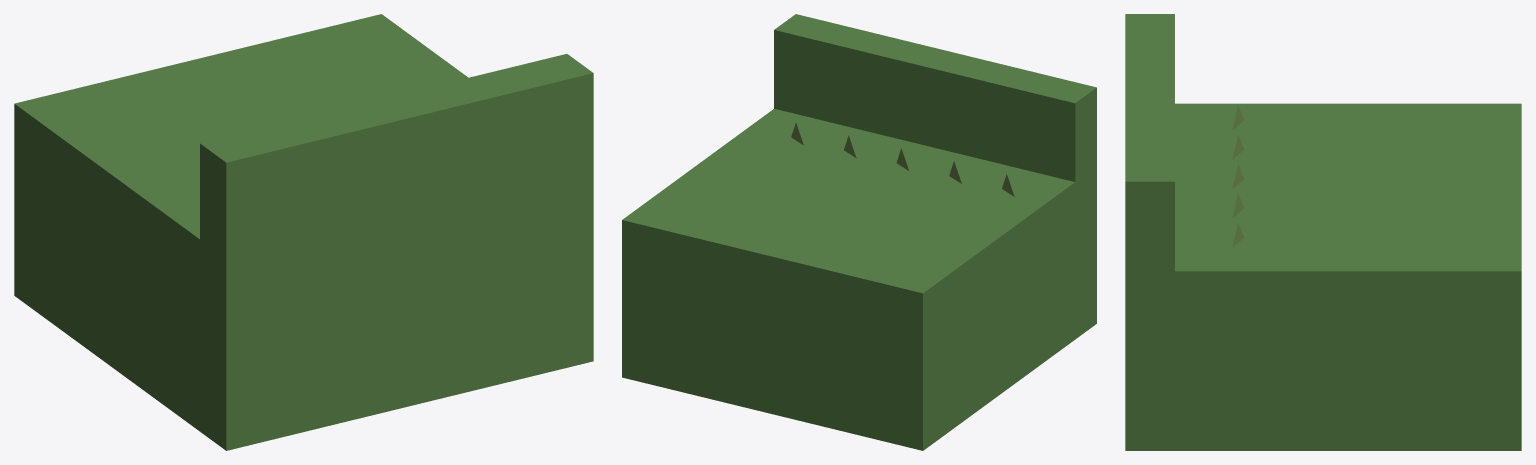
Rendered from terrain-grass-edge.lod0.glb.
The picture shows the model from 3 angles, left to right: view 1: azimuth 30°, elevation 25°; view 2: azimuth 150°, elevation 25°; view 3: azimuth 270°, elevation 25°; orthographic projection. The views are drawn at different scales.
Parts seen in each view (by area): view 1: terrain-grass-edge__body; view 2: terrain-grass-edge__body; view 3: terrain-grass-edge__body.
Part boxes in pixels (<box>): terrain-grass-edge__body: <box>14,14,593,450</box>; terrain-grass-edge__body: <box>622,14,1096,450</box>; terrain-grass-edge__body: <box>1125,14,1521,450</box>.
Bounding box in the file's own units: 2 × 1.5 × 2.
